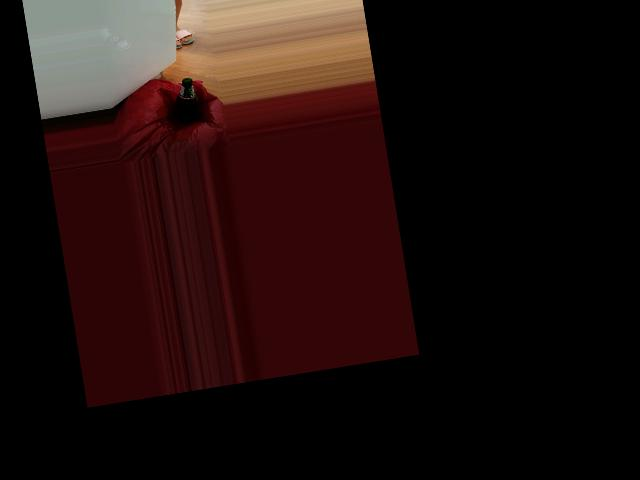beer: (170, 77, 201, 124)
